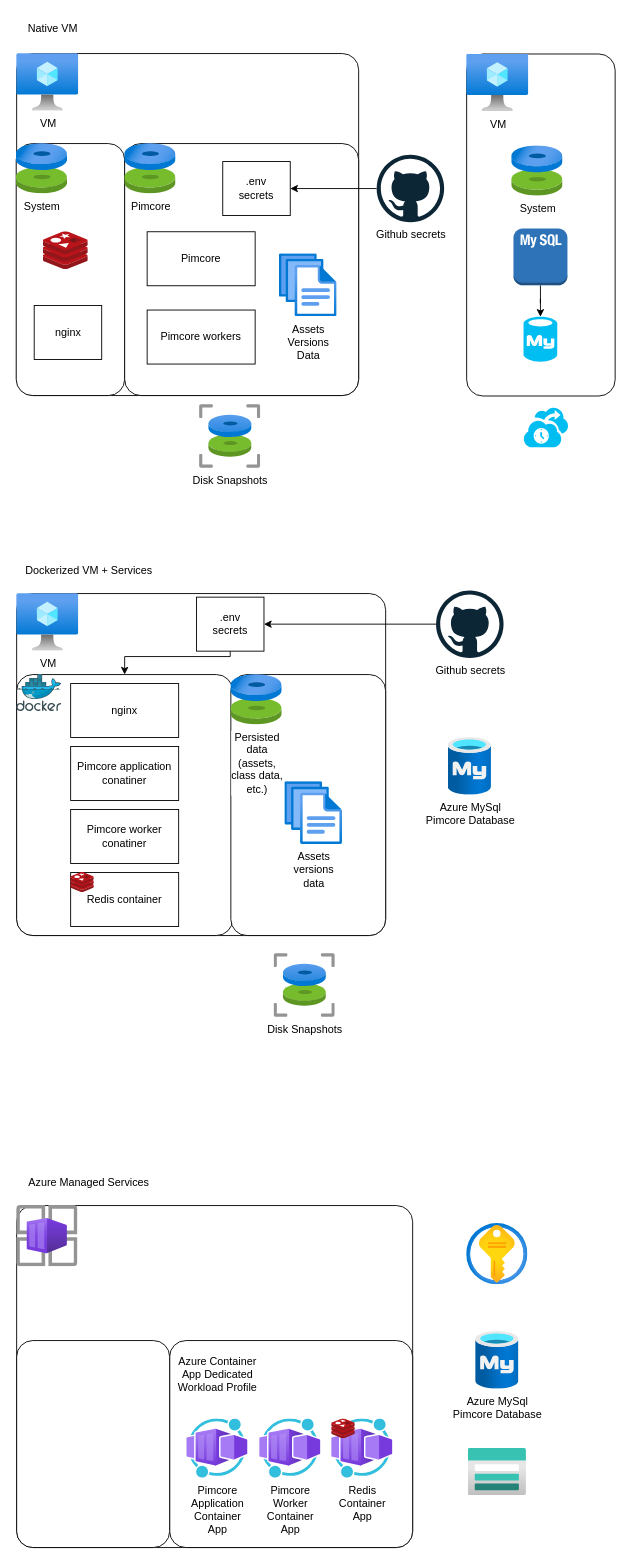
The diagram is 631 pixels wide and 1563 high, and some of its shapes have lost their labels. The shapes that lost their labels are listed below. From the top down, each one's centre as x and y in pixels, then its label:
the point at 65,250: Redis
the point at 540,338: Pimcore DB
the point at 545,426: Databaes backups
the point at 46,1235: Azure Container Apps Environment
the point at 496,1253: Azure Key Vault Secrets
the point at 93,1444: Azure Container App Consuption Workload Profile
the point at 497,1471: Azure Storage Pimcore Assets/Versions/Data
